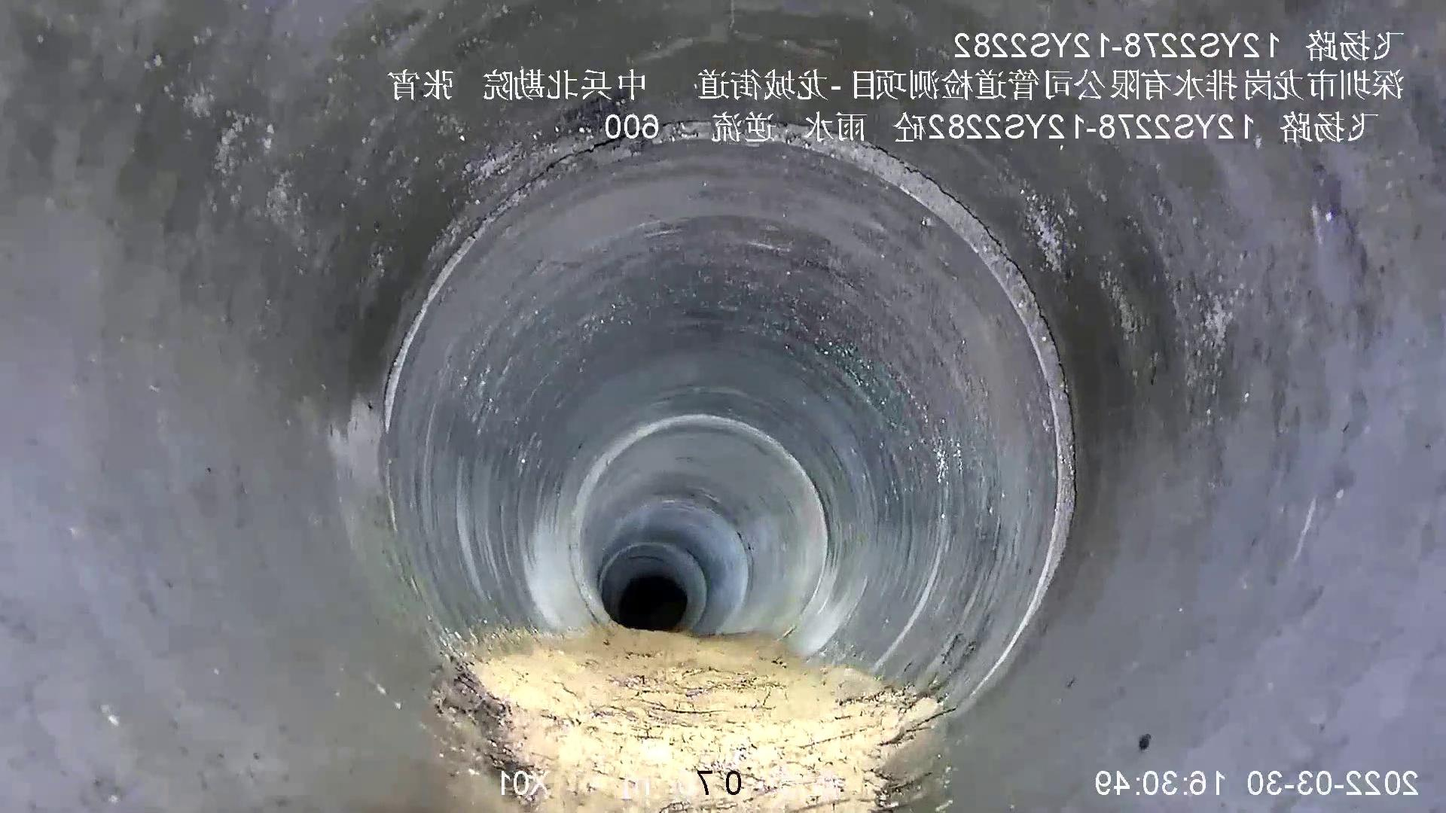CJ: (433, 623, 944, 812)
CKTJ: (384, 114, 1076, 695), (568, 413, 829, 607)
